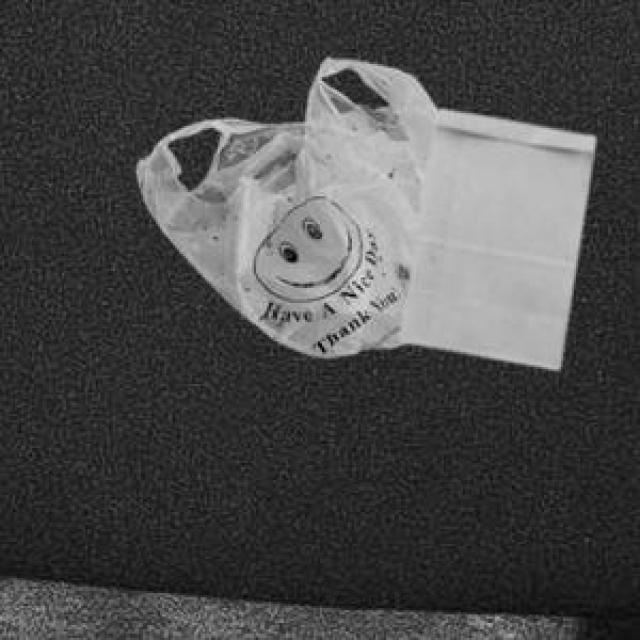paper: (395, 105, 591, 365)
